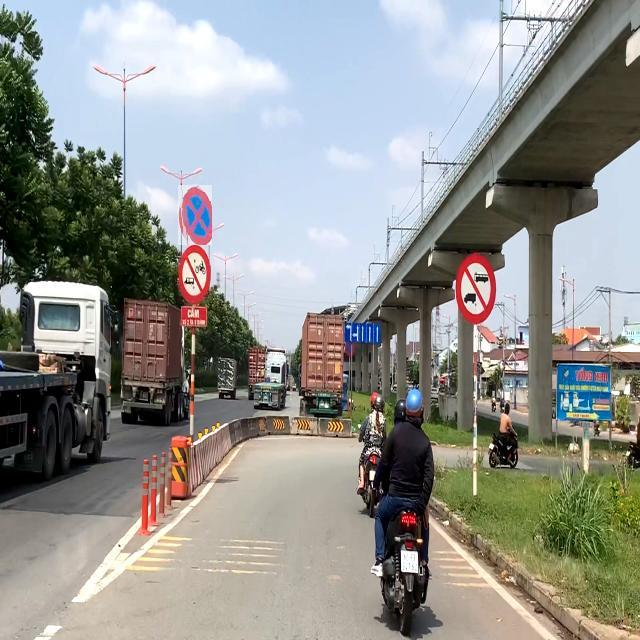P-130: (178, 185, 212, 245)
